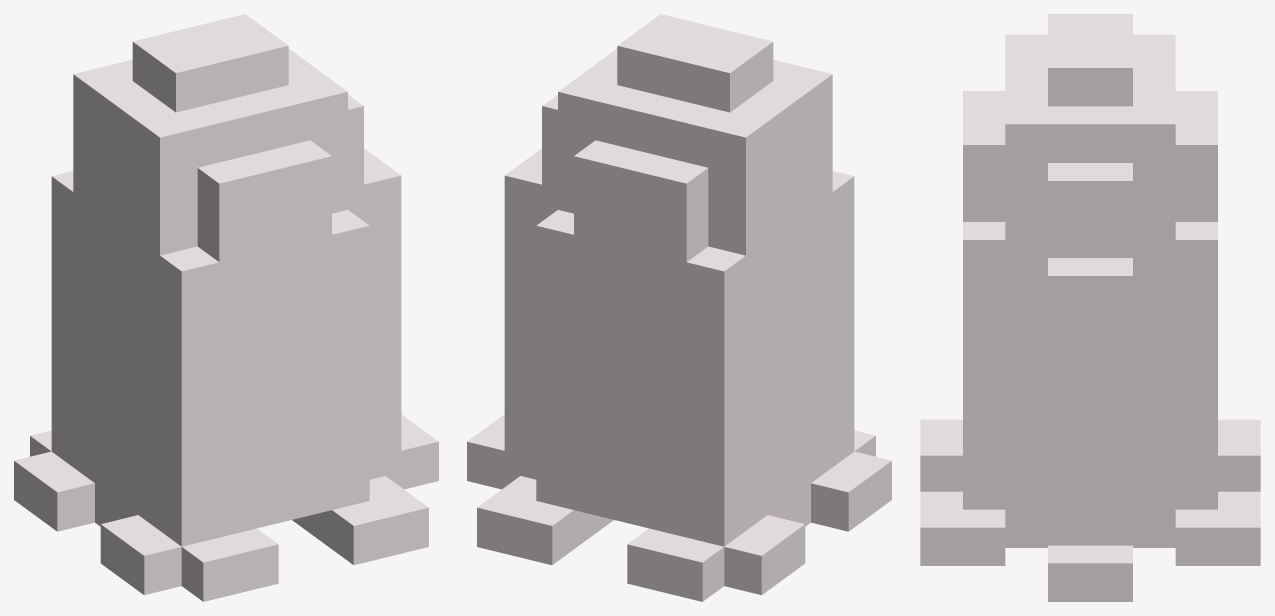
3 views of the same model, side by side, from view 1: azimuth 30°, elevation 25°; view 2: azimuth 150°, elevation 25°; view 3: azimuth 270°, elevation 25° (orthographic). The views are drawn at different scales.
Parts seen in each view (by area): view 1: 93; view 2: 93; view 3: 93.
Boxes of the visible parts, box(x1,y1,x2,y2) form: 93: box(14, 14, 438, 601); 93: box(467, 14, 891, 601); 93: box(920, 14, 1260, 601).
Size of the model in its own units: 90 by 120 by 80.
1 material, 1 textured.
